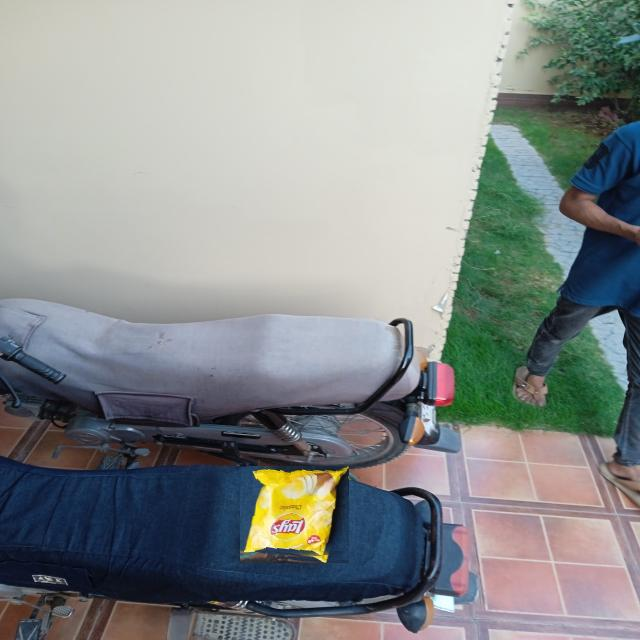Plastic: (240, 466, 349, 563)
